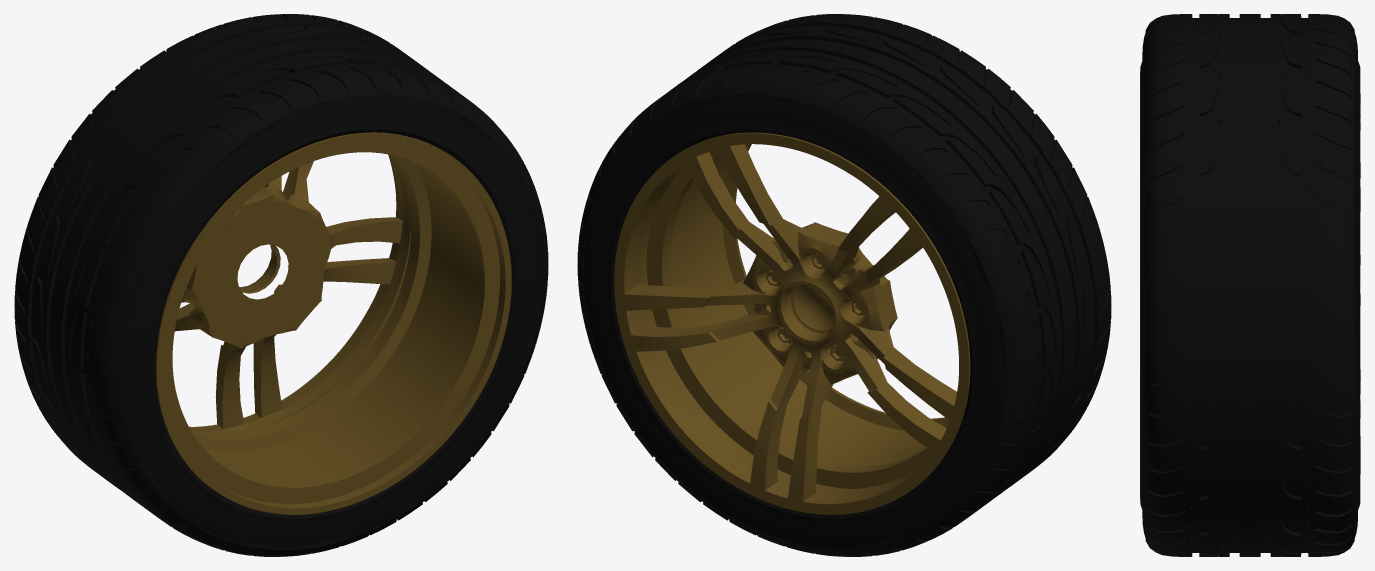
Rendered from s15_wheel_r.glb.
3 renders of one model, left to right at view 1: azimuth 30°, elevation 25°; view 2: azimuth 150°, elevation 25°; view 3: azimuth 270°, elevation 25°, orthographic. The views are drawn at different scales.
Visible parts, largest first — view 1: wheels.002; view 2: wheels.002; view 3: wheels.002.
Boxes of the visible parts, box(x1,y1,x2,y2) form: wheels.002: box(14, 14, 548, 556); wheels.002: box(577, 14, 1111, 556); wheels.002: box(1140, 14, 1360, 556).
Size of the model in its own units: 1.19 by 1.19 by 0.4852.
